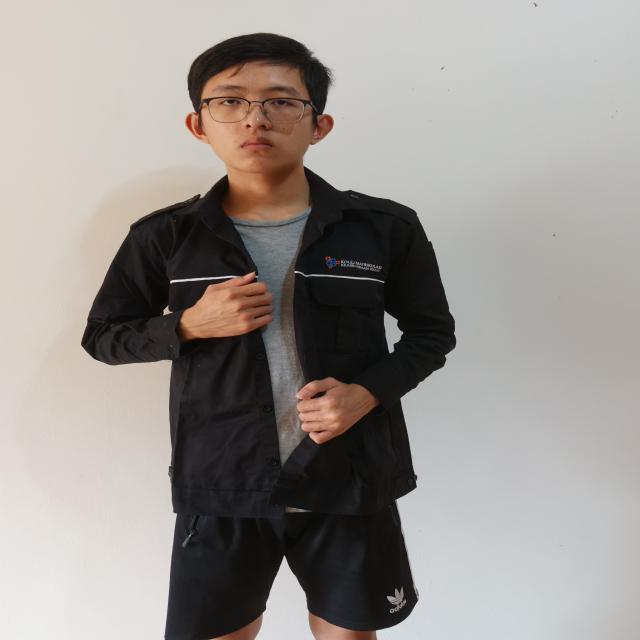person_with_labcoat: (82, 33, 455, 640)
